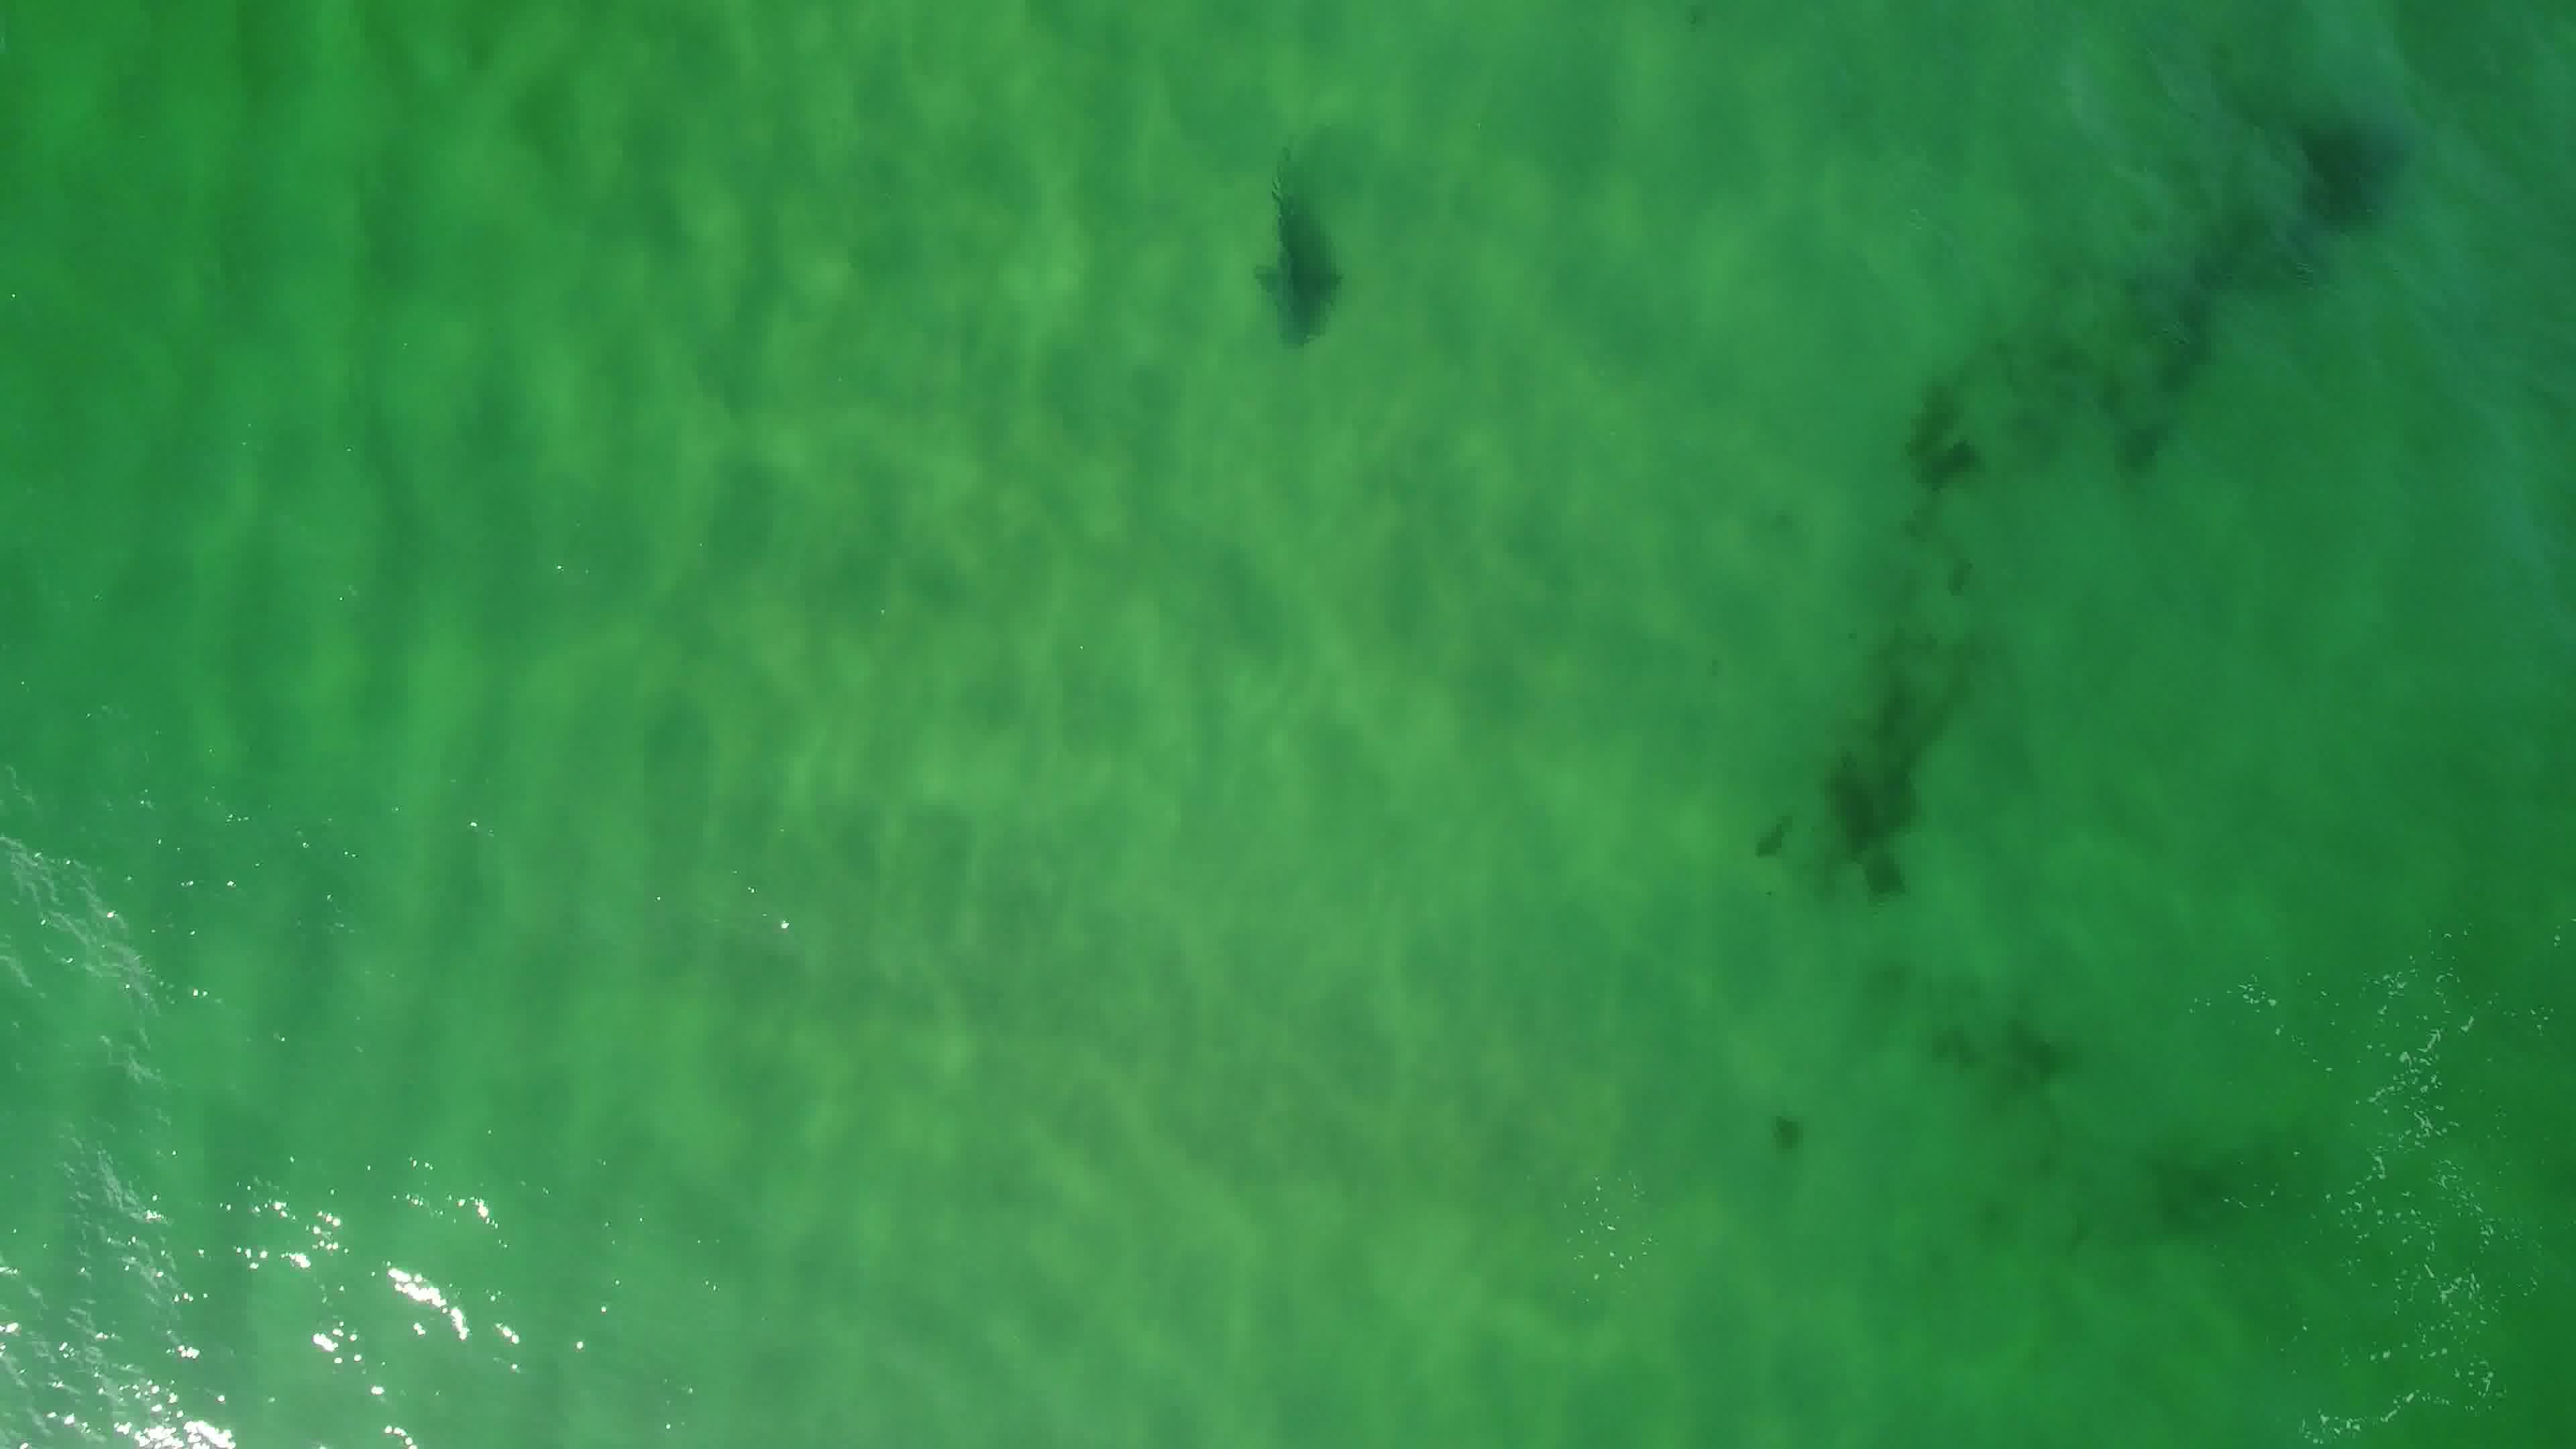shark: (1247, 163, 1355, 352)
